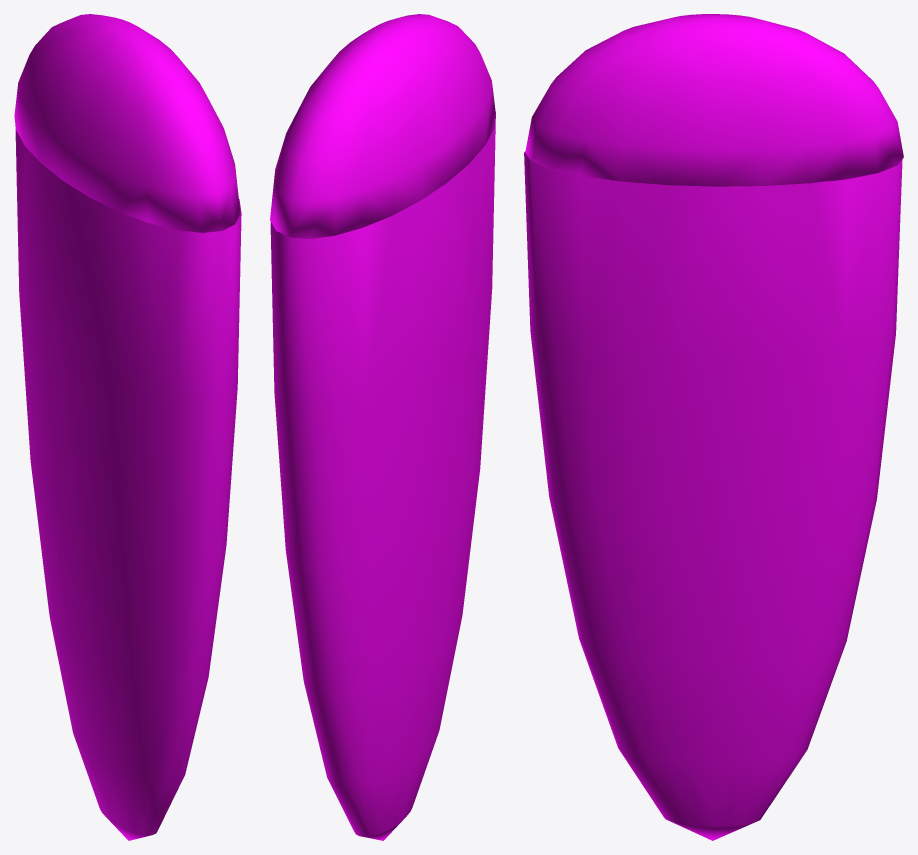
File: Dublesky4.obj
3 renders of one model, left to right at view 1: azimuth 30°, elevation 25°; view 2: azimuth 150°, elevation 25°; view 3: azimuth 270°, elevation 25°, orthographic.
Parts seen in each view (by area): view 1: default, default.001; view 2: default, default.001; view 3: default, default.001.
Boxes of the visible parts, x1,y1,x2,y2 form: default: (15, 126, 241, 840); default.001: (14, 14, 240, 232); default: (270, 112, 495, 840); default.001: (270, 14, 495, 238); default: (524, 151, 902, 840); default.001: (525, 14, 903, 186).
Bounding box in the file's own units: 394 × 2358 × 986.
